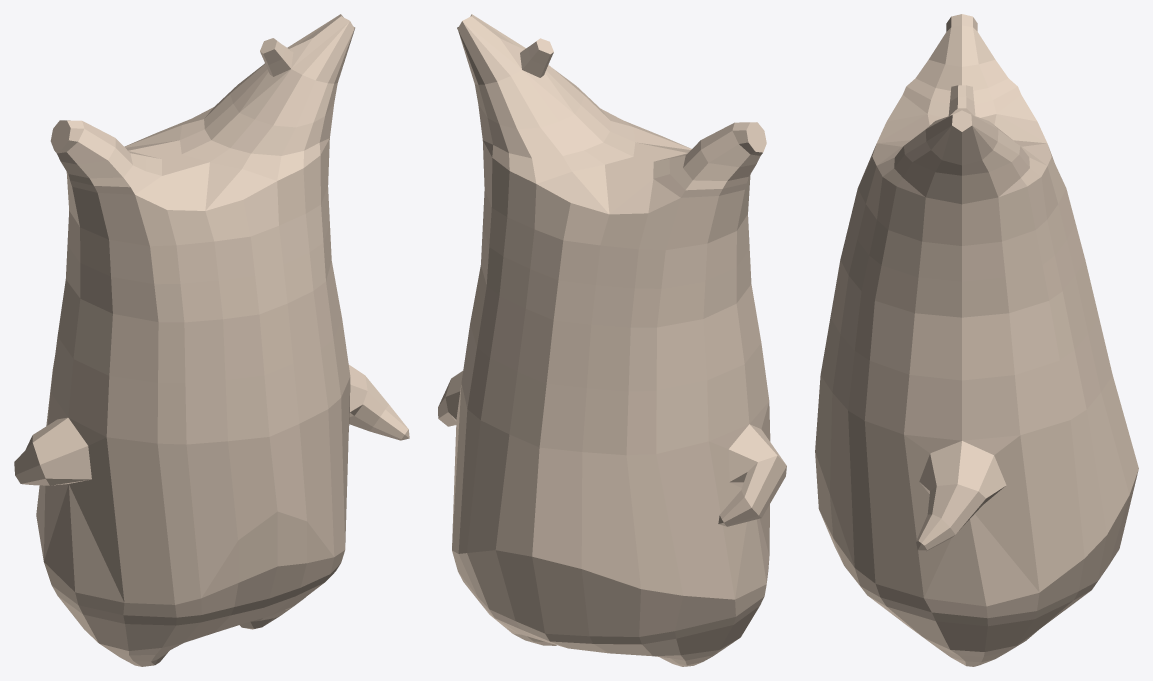
File: frame_0027.obj
The picture shows the model from 3 angles, left to right: view 1: azimuth 30°, elevation 25°; view 2: azimuth 150°, elevation 25°; view 3: azimuth 270°, elevation 25°; orthographic projection.
Parts seen in each view (by area): view 1: korok; view 2: korok; view 3: korok.
Part boxes in pixels (left/top/right/bottom): korok: left=14, top=14, right=409, bottom=666; korok: left=438, top=14, right=786, bottom=666; korok: left=815, top=14, right=1138, bottom=666.
Size of the model in its own units: 1.34 by 2.16 by 1.06.
